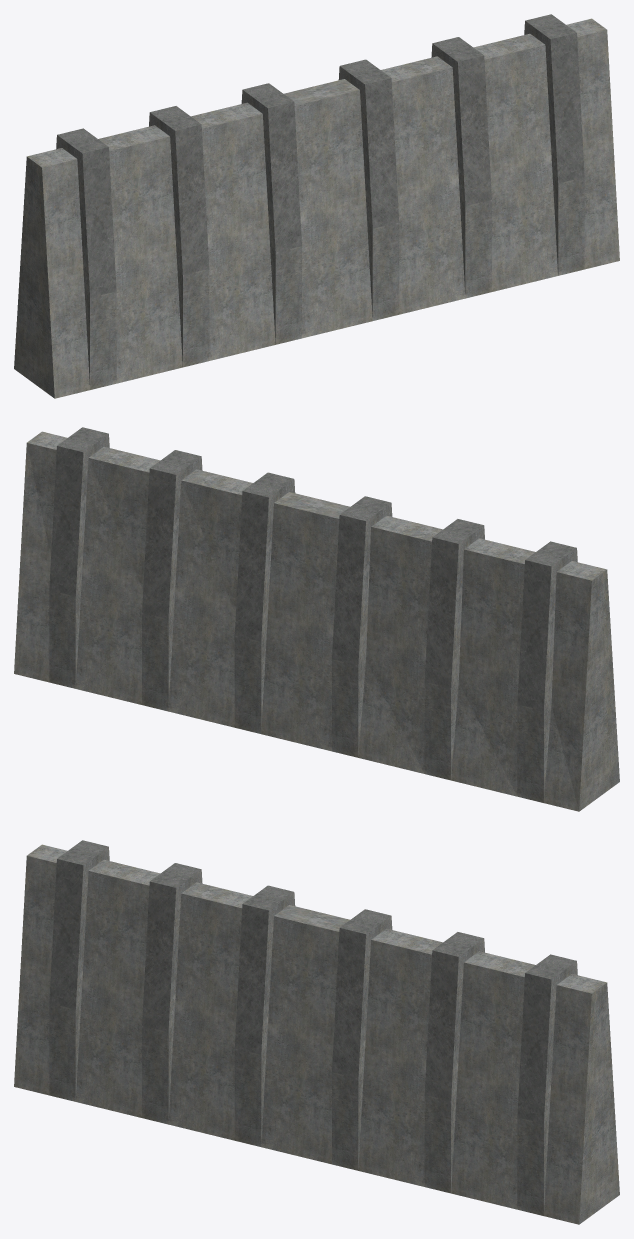
File: mun_all_military_wall_med_impl_16_s01_l1.fbx
The picture shows the model from 3 angles, top to bottom: view 1: azimuth 30°, elevation 25°; view 2: azimuth 150°, elevation 25°; view 3: azimuth 330°, elevation 25°; orthographic projection.
Visible parts, largest first — view 1: mesh_node; view 2: mesh_node; view 3: mesh_node.
Part boxes in pixels (x1,y1,x2,y2): mesh_node: (14, 14, 619, 398); mesh_node: (14, 427, 619, 811); mesh_node: (14, 840, 619, 1224).
Size of the model in its own units: 16 by 6.25 by 2.
